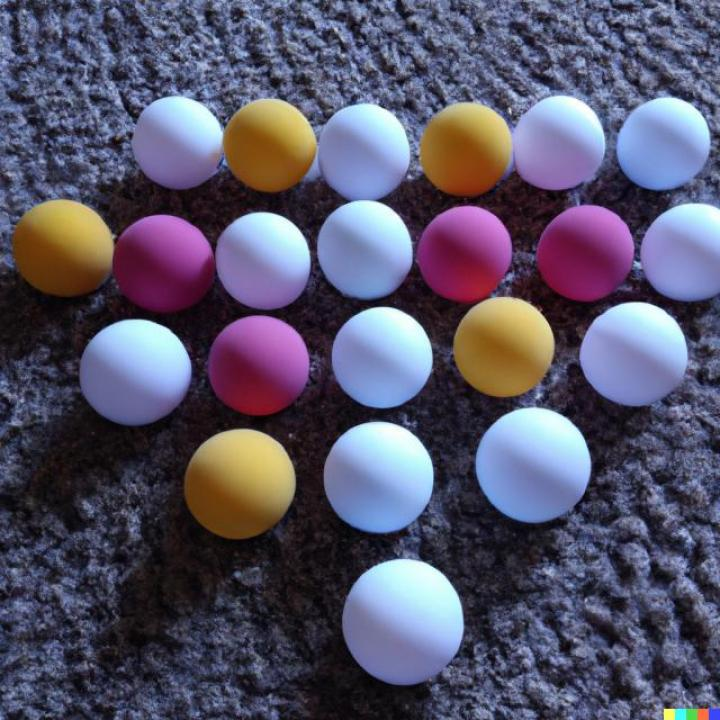orange: (182, 428, 298, 538), (452, 296, 554, 399), (12, 200, 117, 294), (416, 100, 512, 197), (225, 100, 317, 190)
white: (342, 558, 464, 688), (476, 407, 591, 528), (321, 420, 435, 536), (80, 321, 192, 426), (580, 302, 690, 408), (331, 307, 436, 409), (319, 204, 415, 300), (216, 212, 310, 310), (318, 102, 410, 202), (513, 97, 606, 191), (620, 97, 710, 193), (134, 98, 224, 189), (642, 204, 720, 299)
